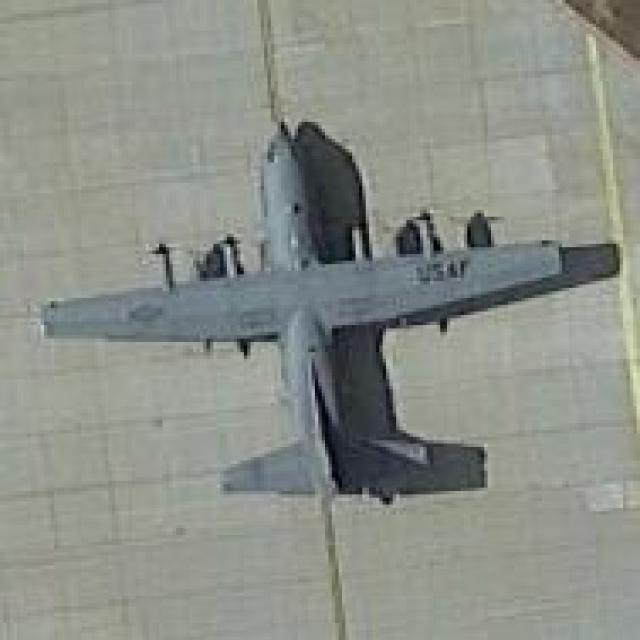C-130_TopDown: (34, 114, 627, 514)
